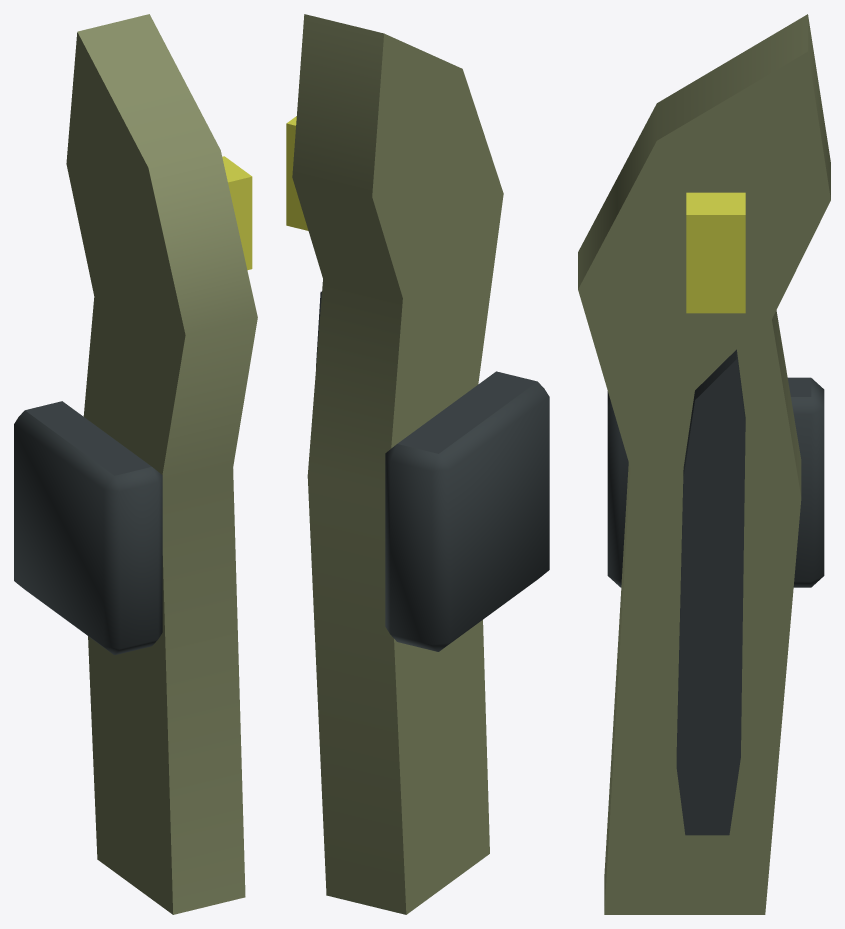
Rendered from person_tool_shock.obj.
3 renders of one model, left to right at view 1: azimuth 30°, elevation 25°; view 2: azimuth 150°, elevation 25°; view 3: azimuth 270°, elevation 25°, orthographic. The views are drawn at different scales.
Visible parts, largest first — view 1: lance_body, body_interface_unchanged, part_088_utility_yellow; view 2: lance_body, body_interface_unchanged, part_088_utility_yellow; view 3: lance_body, part_076_utility_dark, body_interface_unchanged, part_088_utility_yellow.
Boxes of the visible parts, x1,y1,x2,y2 form: lance_body: (66, 14, 257, 914); body_interface_unchanged: (14, 401, 162, 655); part_088_utility_yellow: (222, 156, 252, 270); lance_body: (292, 14, 503, 914); body_interface_unchanged: (385, 371, 549, 651); part_088_utility_yellow: (286, 116, 308, 230); lance_body: (578, 14, 830, 914); part_076_utility_dark: (676, 349, 745, 835); body_interface_unchanged: (607, 377, 824, 587); part_088_utility_yellow: (686, 192, 745, 313).
Bounding box in the file's own units: 0.067 × 0.29 × 0.077.
